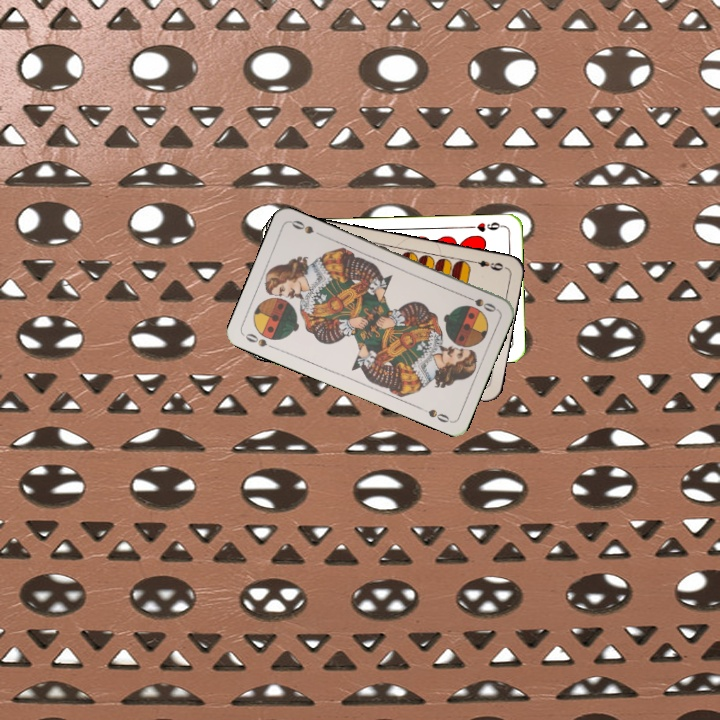E9: (467, 256, 506, 273)
H9: (465, 218, 506, 234)
SO: (460, 291, 499, 315), (241, 329, 279, 352)
